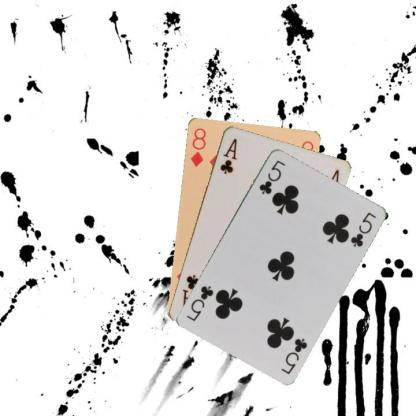5c: (278, 335, 308, 376), (256, 157, 287, 195)
8d: (188, 125, 207, 168)
Ac: (217, 135, 238, 175)
